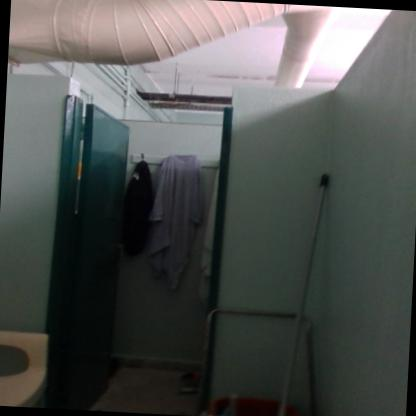open: (35, 72, 246, 404)
